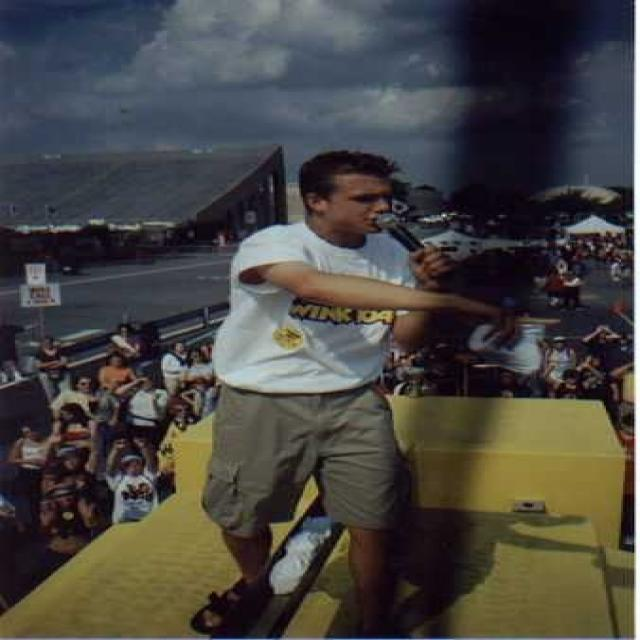microphone: (371, 211, 430, 258)
